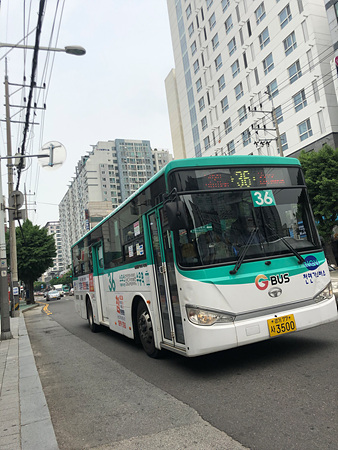bnum: (251, 190, 275, 206)
